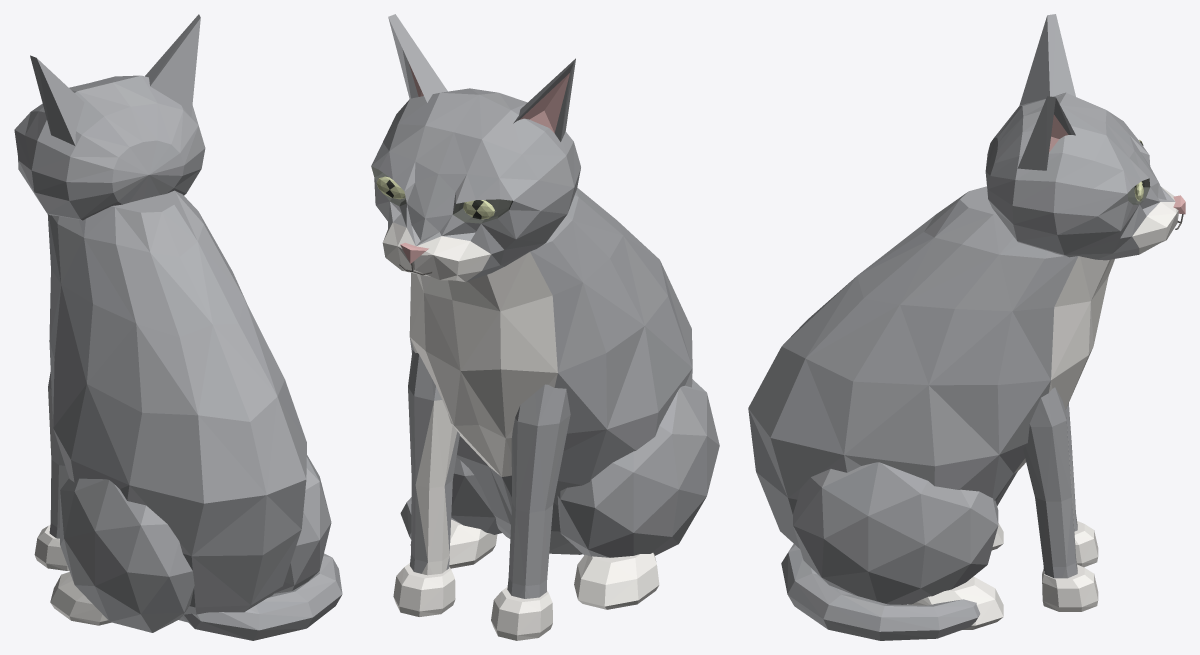
File: cat_fit_r7.glb
3 views of the same model, side by side, from view 1: azimuth 30°, elevation 25°; view 2: azimuth 150°, elevation 25°; view 3: azimuth 270°, elevation 25° (orthographic). The views are drawn at different scales.
Visible parts, largest first — view 1: Rounded_Torso_MASTER, Sculpted_Head_MASTER, Haunch_Right_MASTER, Curled_tail_MASTER, Haunch_Left_MASTER, Thick_Ear_Left_MASTER, Thick_Ear_Right_MASTER, Hind_paw_Right_MASTER, Foreleg_Right_MASTER, Front_paw_Right_MASTER; view 2: Rounded_Torso_MASTER, Sculpted_Head_MASTER, Haunch_Right_MASTER, Foreleg_Right_MASTER, Foreleg_Left_MASTER, Hind_paw_Right_MASTER, Front_paw_Left_MASTER, Front_paw_Right_MASTER, Thick_Ear_Right_MASTER, Haunch_Left_MASTER, Thick_Ear_Left_MASTER, Hind_paw_Left_MASTER (+1 smaller); view 3: Rounded_Torso_MASTER, Haunch_Left_MASTER, Sculpted_Head_MASTER, Curled_tail_MASTER, Foreleg_Left_MASTER, Thick_Ear_Right_MASTER, Thick_Ear_Left_MASTER, Front_paw_Left_MASTER, Hind_paw_Left_MASTER, Front_paw_Right_MASTER.
Part boxes in pixels (x1=…): Rounded_Torso_MASTER: x1=47, y1=190, x2=306, y2=622; Sculpted_Head_MASTER: x1=14, y1=75, x2=205, y2=220; Haunch_Right_MASTER: x1=60, y1=478, x2=194, y2=632; Curled_tail_MASTER: x1=182, y1=553, x2=342, y2=640; Haunch_Left_MASTER: x1=274, y1=455, x2=331, y2=593; Thick_Ear_Left_MASTER: x1=145, y1=14, x2=200, y2=117; Thick_Ear_Right_MASTER: x1=30, y1=55, x2=84, y2=145; Hind_paw_Right_MASTER: x1=50, y1=572, x2=111, y2=625; Foreleg_Right_MASTER: x1=48, y1=372, x2=68, y2=538; Front_paw_Right_MASTER: x1=34, y1=525, x2=69, y2=570; Rounded_Torso_MASTER: x1=409, y1=188, x2=692, y2=554; Sculpted_Head_MASTER: x1=371, y1=88, x2=580, y2=281; Haunch_Right_MASTER: x1=557, y1=379, x2=719, y2=557; Foreleg_Right_MASTER: x1=507, y1=384, x2=570, y2=598; Foreleg_Left_MASTER: x1=408, y1=350, x2=459, y2=575; Hind_paw_Right_MASTER: x1=574, y1=553, x2=659, y2=609; Front_paw_Left_MASTER: x1=393, y1=563, x2=455, y2=616; Front_paw_Right_MASTER: x1=491, y1=587, x2=552, y2=640; Thick_Ear_Right_MASTER: x1=513, y1=58, x2=575, y2=141; Haunch_Left_MASTER: x1=451, y1=457, x2=501, y2=534; Thick_Ear_Left_MASTER: x1=388, y1=14, x2=447, y2=102; Hind_paw_Left_MASTER: x1=410, y1=519, x2=497, y2=568; Rounded_Torso_MASTER: x1=748, y1=186, x2=1114, y2=548; Haunch_Left_MASTER: x1=793, y1=462, x2=998, y2=604; Sculpted_Head_MASTER: x1=985, y1=92, x2=1178, y2=260; Curled_tail_MASTER: x1=781, y1=544, x2=980, y2=640; Foreleg_Left_MASTER: x1=1023, y1=387, x2=1077, y2=578; Thick_Ear_Right_MASTER: x1=1019, y1=14, x2=1075, y2=105; Thick_Ear_Left_MASTER: x1=1017, y1=96, x2=1075, y2=170; Front_paw_Left_MASTER: x1=1042, y1=564, x2=1098, y2=611; Hind_paw_Left_MASTER: x1=908, y1=576, x2=1003, y2=629; Front_paw_Right_MASTER: x1=1074, y1=521, x2=1098, y2=567.
Size of the model in its own units: 0.0762 by 0.15 by 0.1134.
